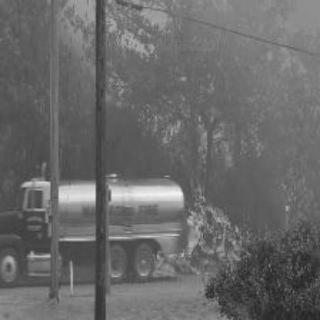Fire: (133, 129, 255, 279)
